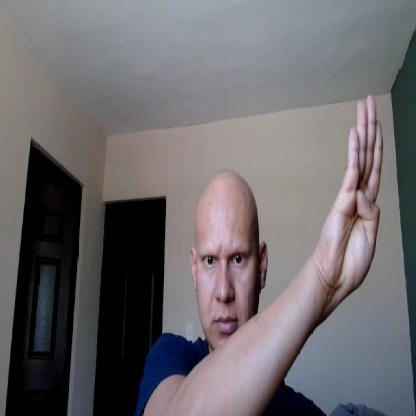B: (323, 97, 384, 294)
